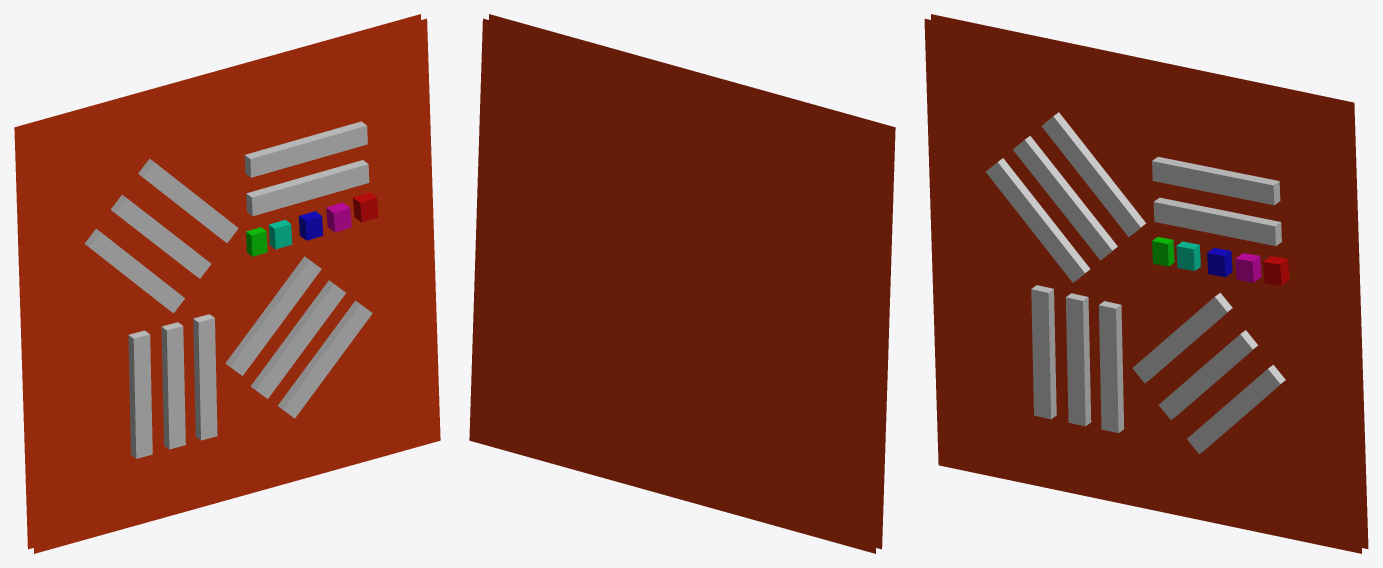
Rendered from phantom_collision_single.OBJ.
The picture shows the model from 3 angles, left to right: view 1: azimuth 30°, elevation 25°; view 2: azimuth 150°, elevation 25°; view 3: azimuth 330°, elevation 25°; orthographic projection. The views are drawn at different scales.
Visible parts, largest first — view 1: phantom_collision_single_Plane.045; view 2: phantom_collision_single_Plane.045; view 3: phantom_collision_single_Plane.045.
Part boxes in pixels (x1,y1,x2,y2): phantom_collision_single_Plane.045: [14, 14, 440, 553]; phantom_collision_single_Plane.045: [469, 14, 895, 553]; phantom_collision_single_Plane.045: [924, 14, 1368, 553].
Size of the model in its own units: 0.2085 by 0.2085 by 0.0117.
